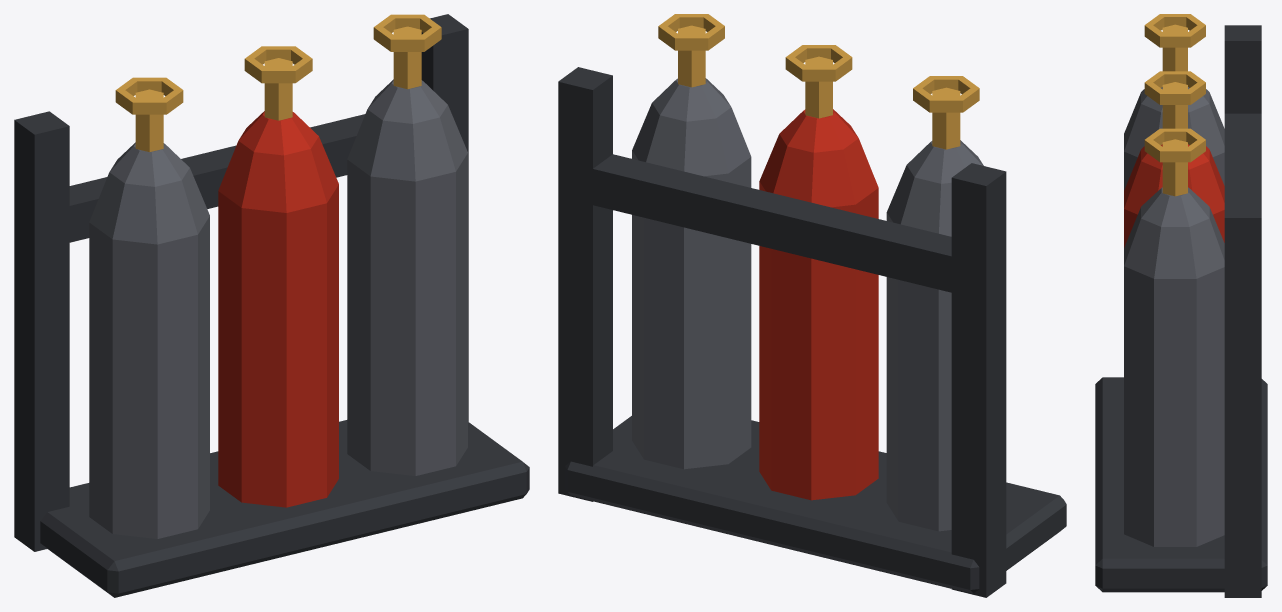
The model's file is FlameKit6.obj.
3 renders of one model, left to right at view 1: azimuth 30°, elevation 25°; view 2: azimuth 150°, elevation 25°; view 3: azimuth 270°, elevation 25°, orthographic. The views are drawn at different scales.
Visible parts, largest first — view 1: FlameKit6; view 2: FlameKit6; view 3: FlameKit6.
Part boxes in pixels (<box>): FlameKit6: <box>14,14,529,597</box>; FlameKit6: <box>558,14,1066,597</box>; FlameKit6: <box>1095,14,1267,597</box>.
Size of the model in its own units: 0.37 by 0.375 by 0.14.
